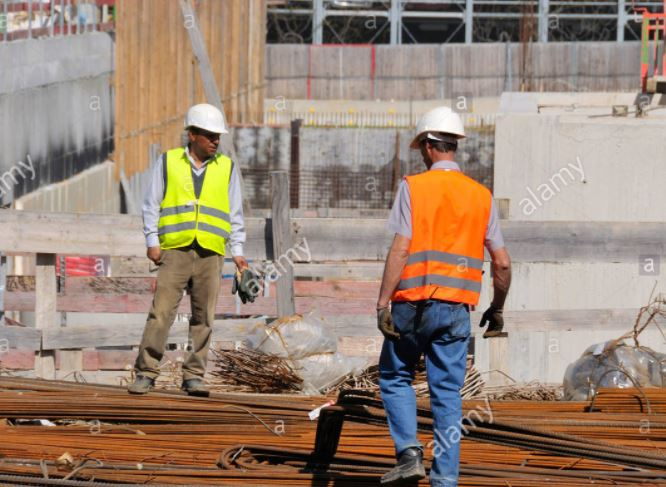Safety Helmet: (407, 90, 482, 193), (169, 93, 231, 165)
